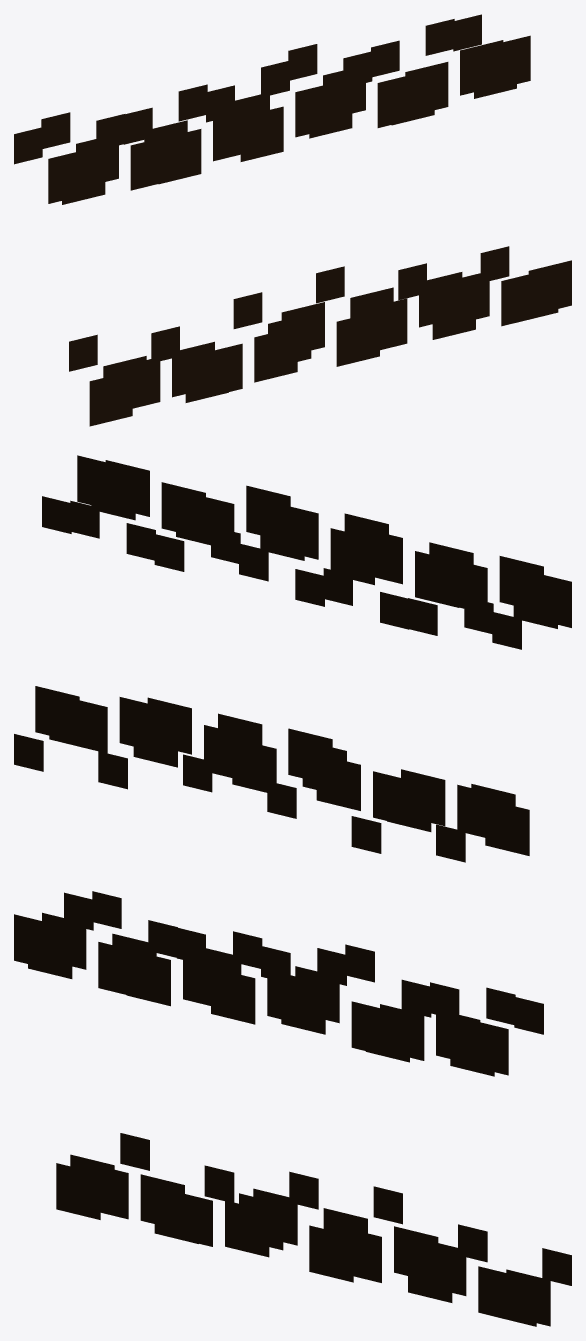
Rendered from daemon_JITTER.glb.
3 renders of one model, top to bottom at view 1: azimuth 30°, elevation 25°; view 2: azimuth 150°, elevation 25°; view 3: azimuth 330°, elevation 25°, orthographic. The views are drawn at different scales.
Parts seen in each view (by area): view 1: t_jit_zig, t_jit_echo; view 2: t_jit_zig, t_jit_echo; view 3: t_jit_zig, t_jit_echo.
Boxes of the visible parts, x1=… form: t_jit_zig: x1=48, y1=35, x2=571, y2=426; t_jit_echo: x1=14, y1=14, x2=509, y2=371; t_jit_zig: x1=35, y1=455, x2=571, y2=855; t_jit_echo: x1=14, y1=496, x2=521, y2=862; t_jit_zig: x1=14, y1=912, x2=550, y2=1326; t_jit_echo: x1=64, y1=891, x2=571, y2=1285.
Size of the model in its own units: 0.0436 by 0.0235 by 0.006.
